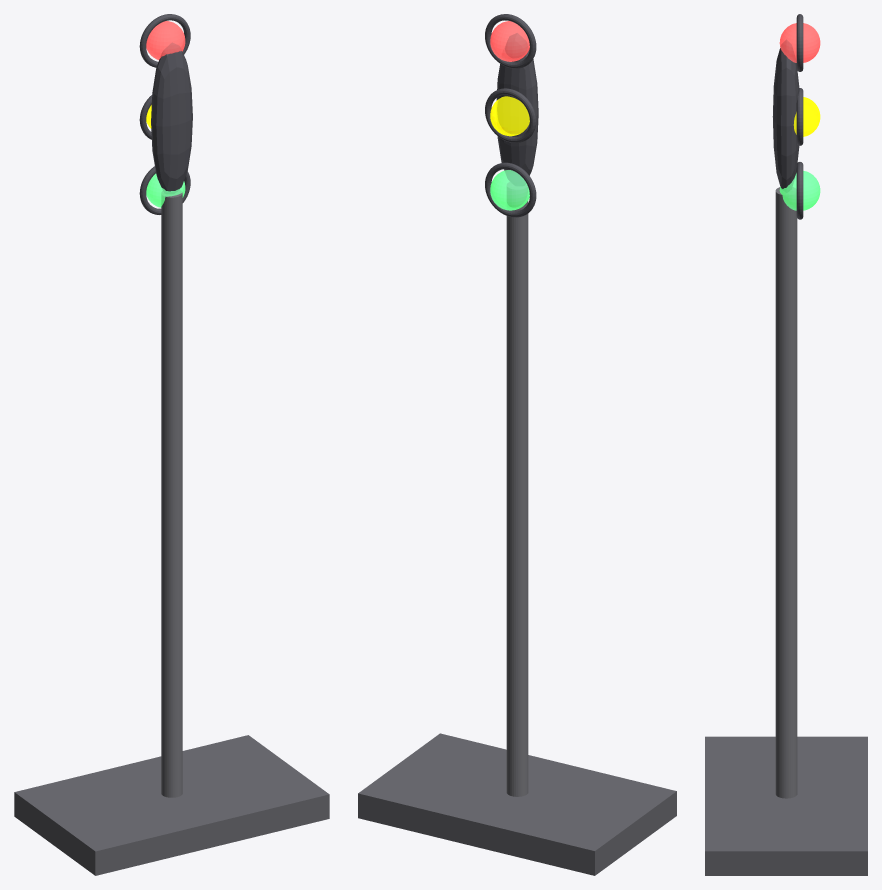
3 renders of one model, left to right at view 1: azimuth 30°, elevation 25°; view 2: azimuth 150°, elevation 25°; view 3: azimuth 270°, elevation 25°, orthographic.
Visible parts, largest first — view 1: Cube, Cylinder, Cube.001, Sphere, Torus; view 2: Cube, Cylinder, Cube.001, Sphere.002, Sphere, Sphere.001, Torus.002, Torus, Torus.001; view 3: Cube, Cylinder, Cube.001, Sphere, Sphere.002, Sphere.001, Torus, Torus.002, Torus.001.
Boxes of the visible parts, <box> form: Cube: <box>14,735,329,875</box>; Cylinder: <box>161,190,182,797</box>; Cube.001: <box>151,43,192,193</box>; Sphere: <box>146,21,185,60</box>; Torus: <box>139,14,190,67</box>; Cube: <box>358,733,676,875</box>; Cylinder: <box>506,182,528,796</box>; Cube.001: <box>496,33,538,185</box>; Sphere.002: <box>490,170,529,210</box>; Sphere: <box>490,21,529,61</box>; Sphere.001: <box>490,96,529,136</box>; Torus.002: <box>485,162,536,217</box>; Torus: <box>485,14,536,68</box>; Torus.001: <box>485,88,536,142</box>; Cube: <box>705,736,867,875</box>; Cylinder: <box>775,187,797,798</box>; Cube.001: <box>772,40,799,192</box>; Sphere: <box>779,23,820,62</box>; Sphere.002: <box>779,171,820,210</box>; Sphere.001: <box>793,97,820,136</box>; Torus: <box>796,14,803,71</box>; Torus.002: <box>796,162,803,219</box>; Torus.001: <box>796,88,803,145</box>.
Size of the model in its own units: 1 by 3.26 by 0.6.
